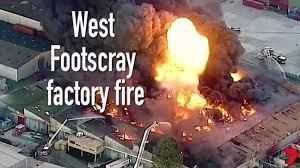fire: (150, 13, 231, 134), (228, 69, 243, 82)
